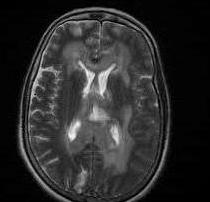Normal_Brain: (1, 1, 190, 202)
